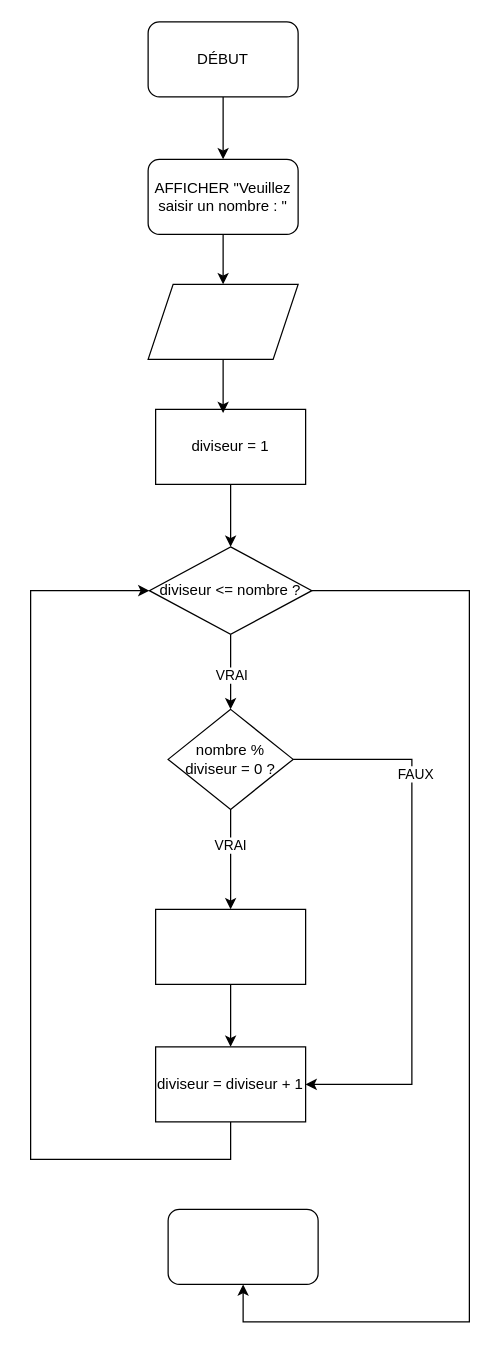
Image size: 501x1354. Some labels were removed from this diagram. Here are the shapes that lost their labels. From the top down, the centre of each, then its label:
the point at 222,321: LIRE nombre
the point at 230,946: AFFICHER diviseur
the point at 242,1246: FIN
